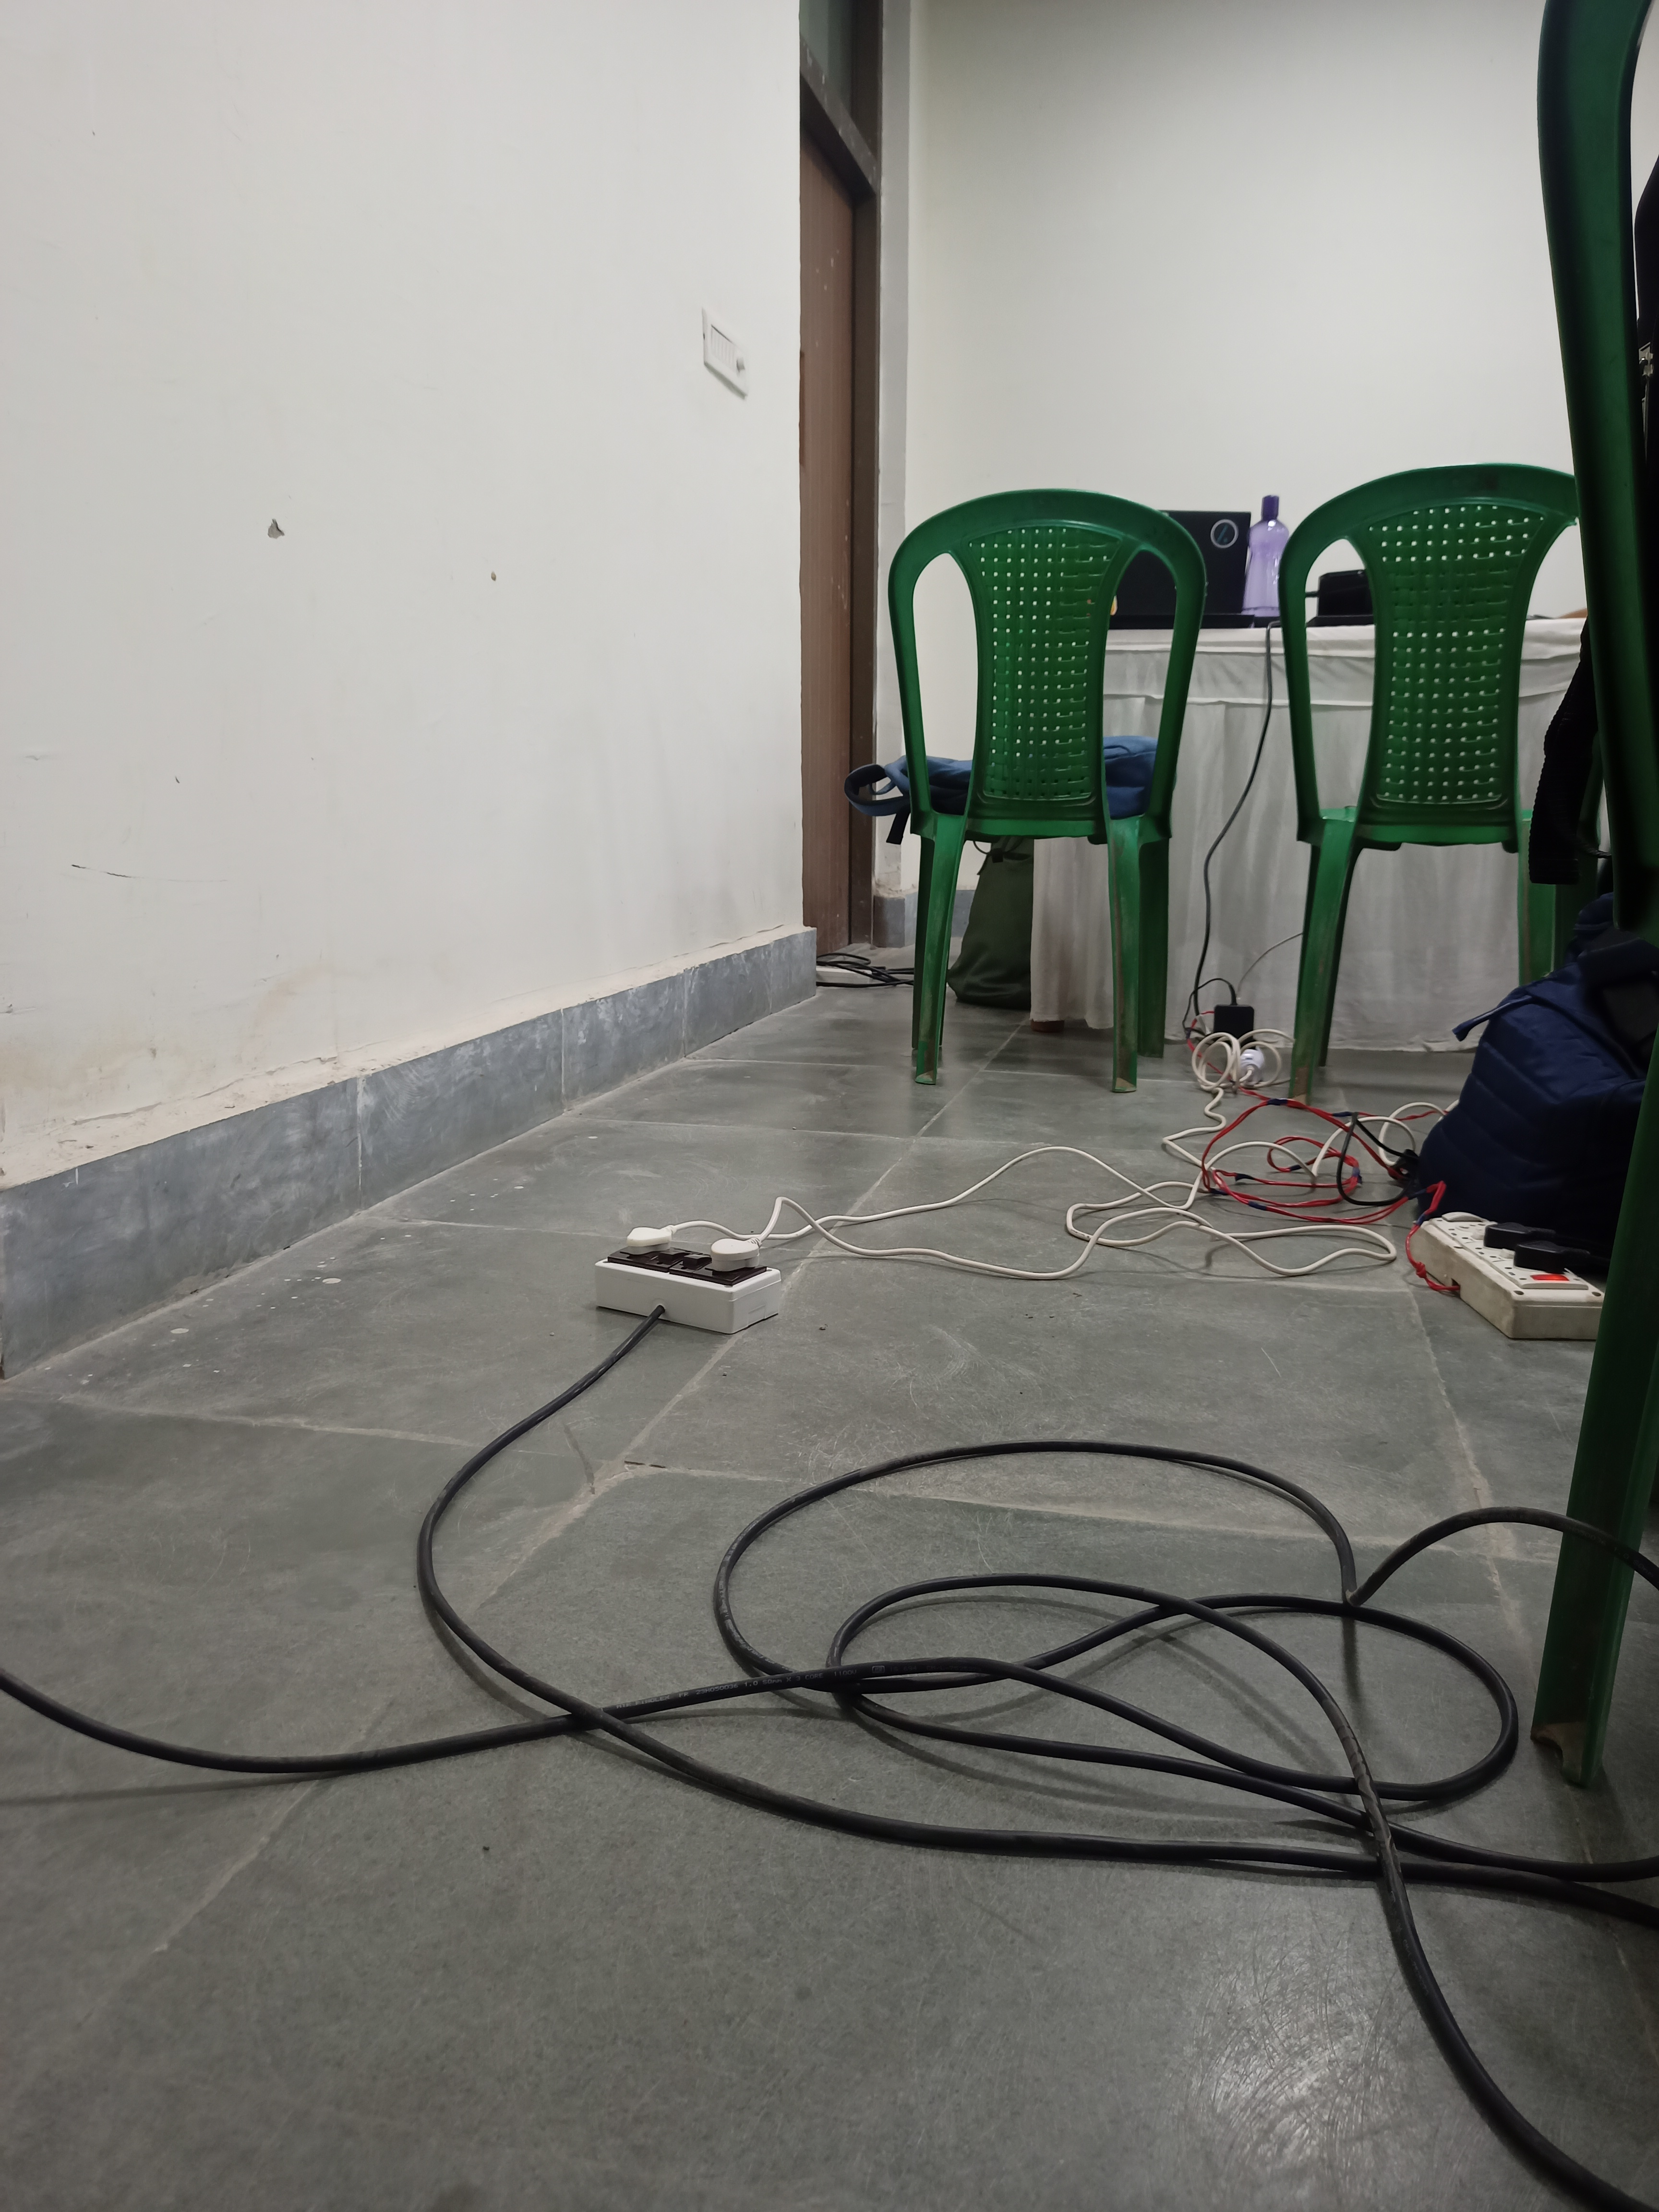Obstacle: (910, 526, 1598, 1073)
Path: (362, 1108, 1401, 2184)
